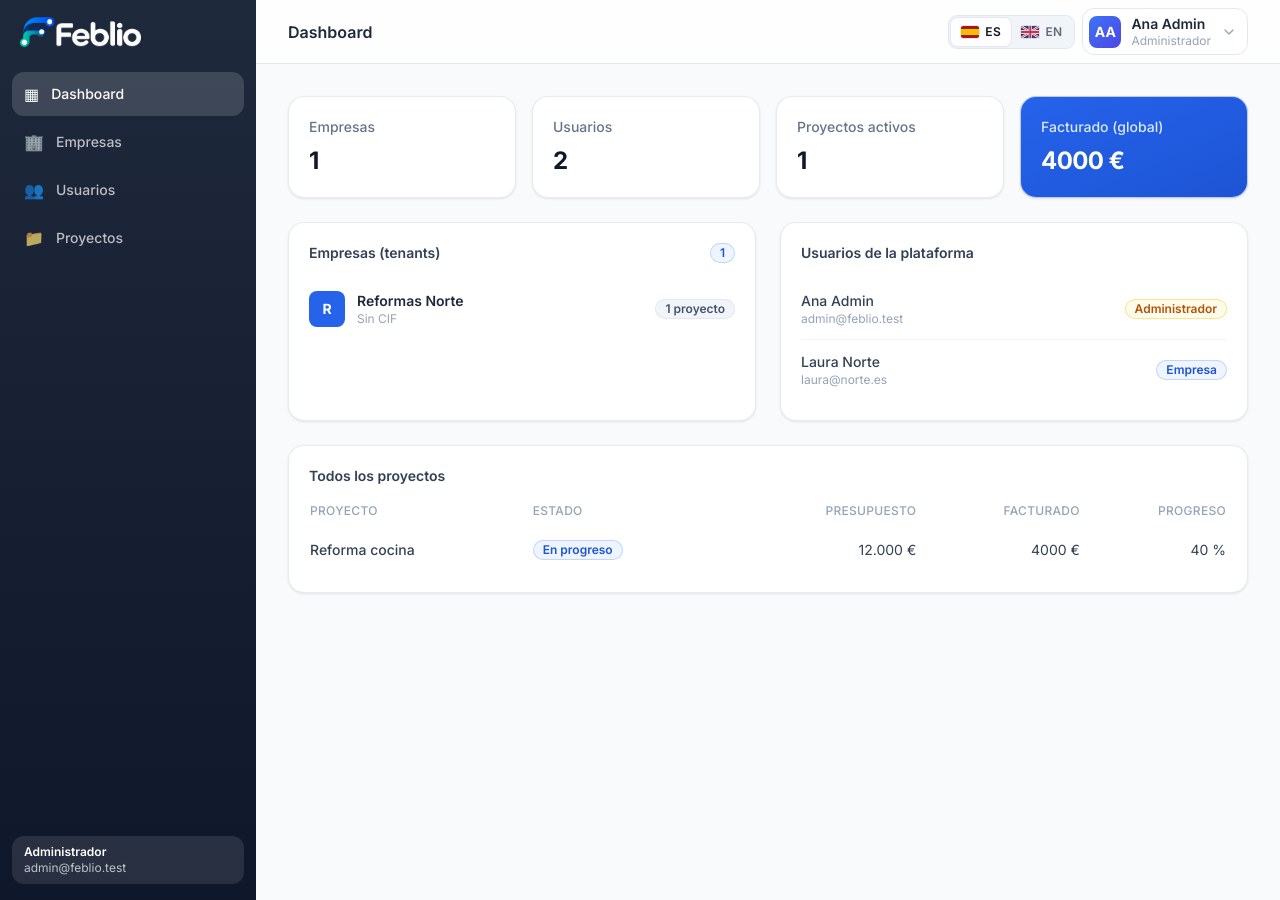
Test: <AdminDashboard /> › the language switcher (in the shared layout header) changes the panel language and keeps the active section
The image size is (1280, 900).
expect the heading "Empresas (tenants)" is shown: met, box top-left (309, 243), bottom-right (440, 263)
Click the button "📁 Proyectos" at (128, 238), box top-left (12, 216), bottom-right (244, 260)
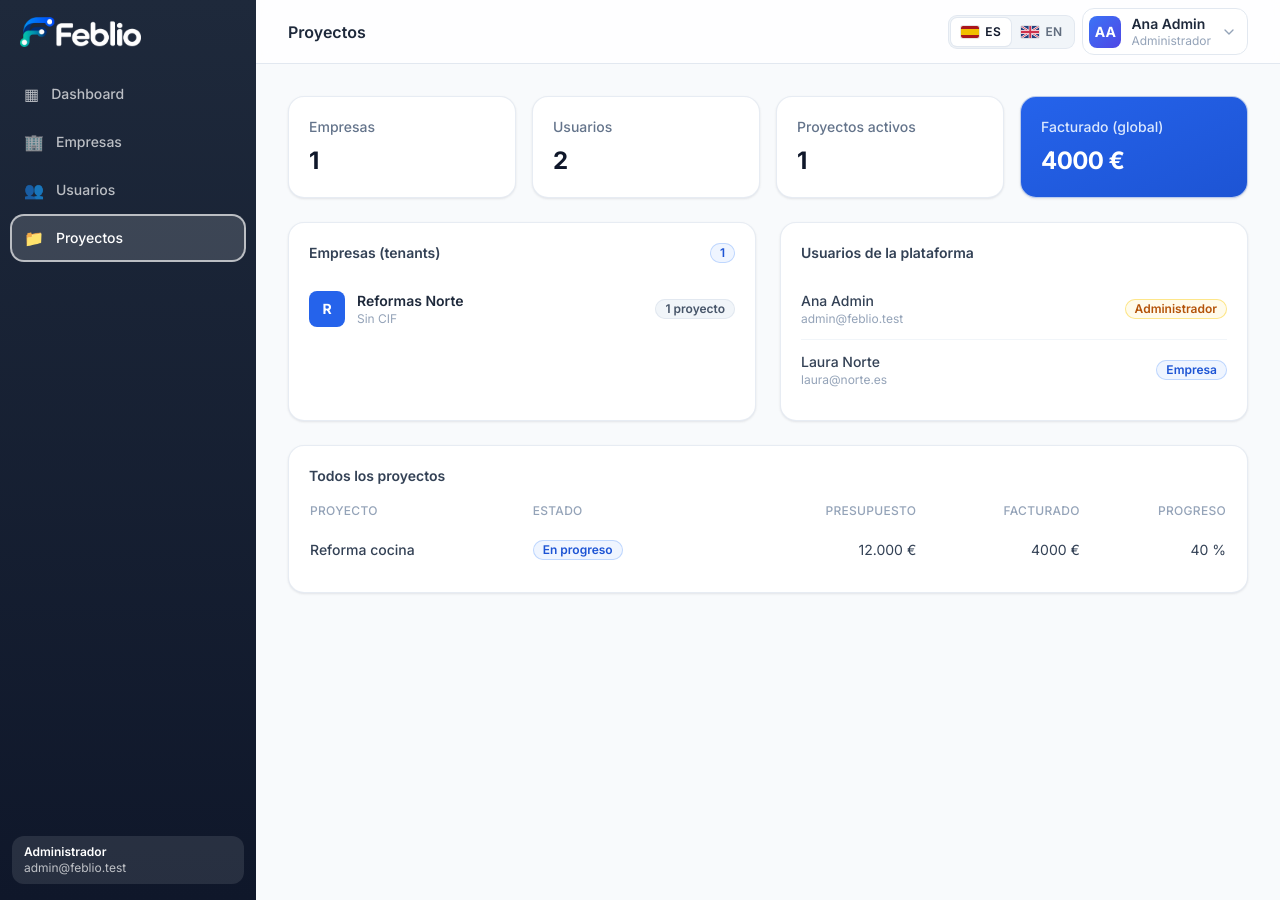
expect the heading "Proyectos" is shown: met, box top-left (288, 20), bottom-right (366, 44)
Click the button with aria-label "English" at (1042, 32), box top-left (1011, 18), bottom-right (1072, 46)
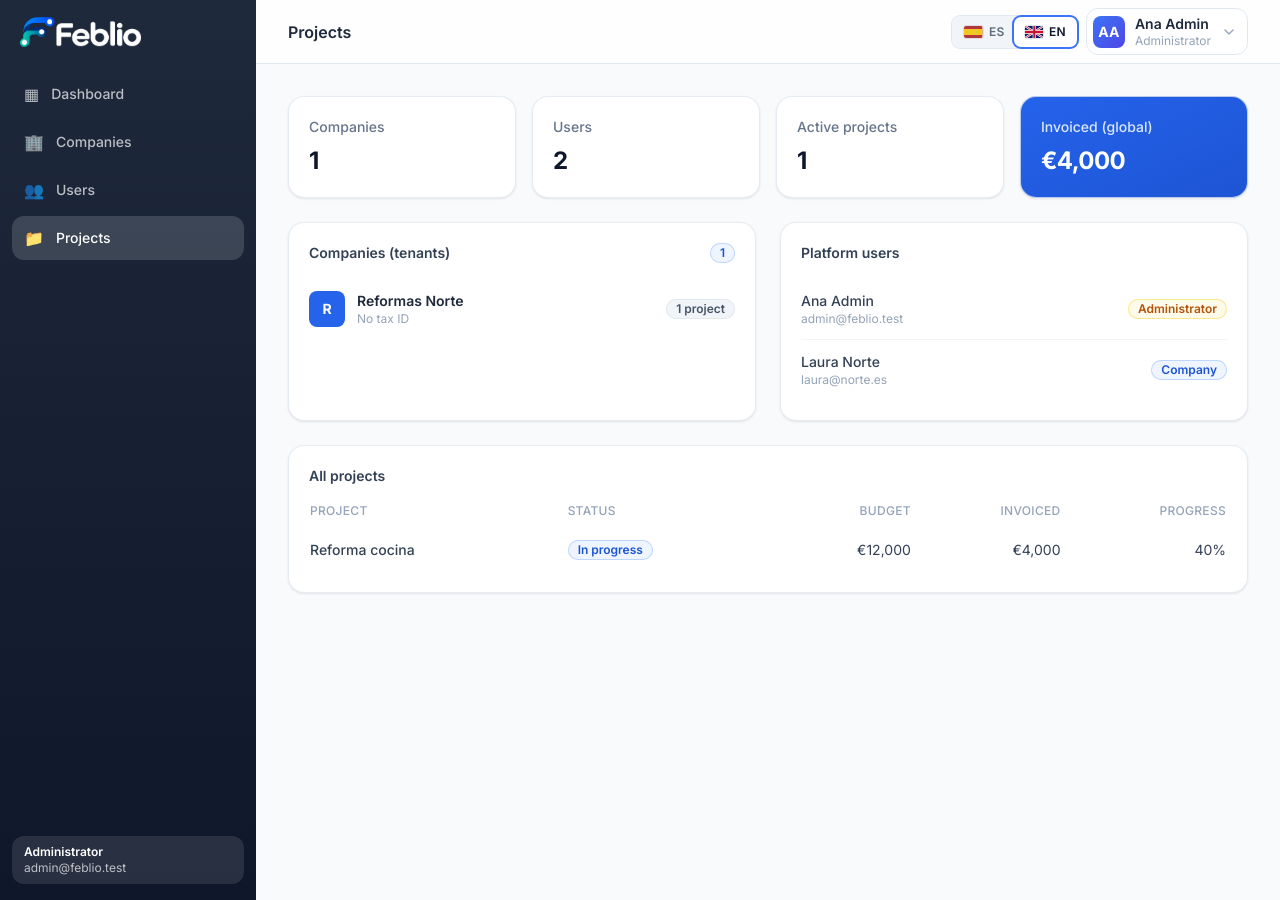
expect the heading "Projects" is shown: met, box top-left (288, 20), bottom-right (351, 44)
expect the heading "Companies (tenants)" is shown: met, box top-left (309, 243), bottom-right (450, 263)
